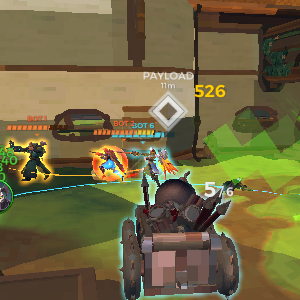model: (19, 138, 51, 185), (95, 144, 126, 182)
